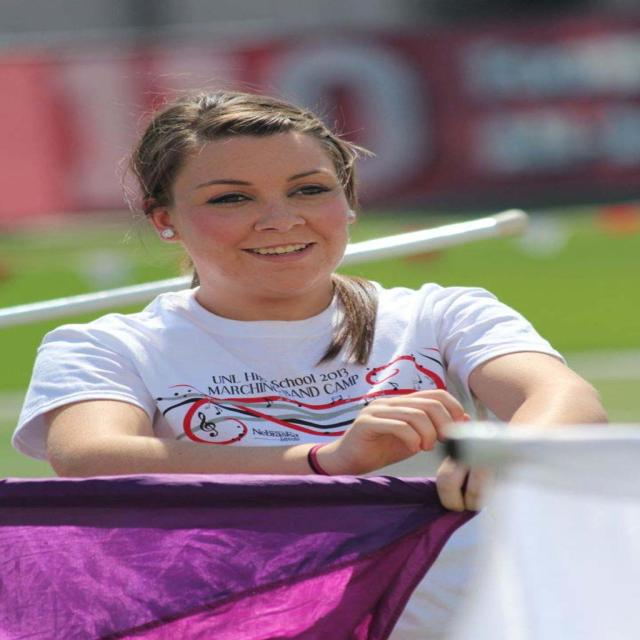Face: (154, 129, 389, 293)
